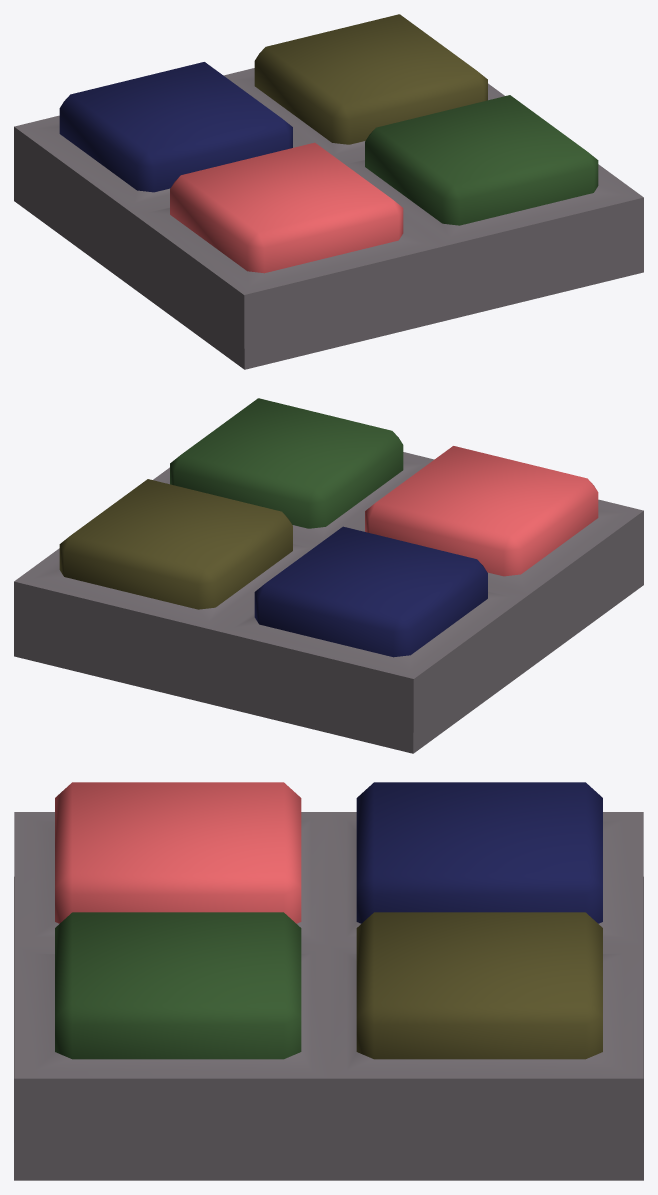
Rendered from simon_red.glb.
3 renders of one model, top to bottom at view 1: azimuth 30°, elevation 25°; view 2: azimuth 150°, elevation 25°; view 3: azimuth 270°, elevation 25°, orthographic. The views are drawn at different scales.
Visible parts, largest first — view 1: Simon; view 2: Simon; view 3: Simon.
Part boxes in pixels (bbox=[...]): Simon: bbox=[14, 14, 643, 369]; Simon: bbox=[14, 398, 643, 753]; Simon: bbox=[14, 782, 643, 1180].
Size of the model in its own units: 0.7308 by 0.1987 by 0.7297.
